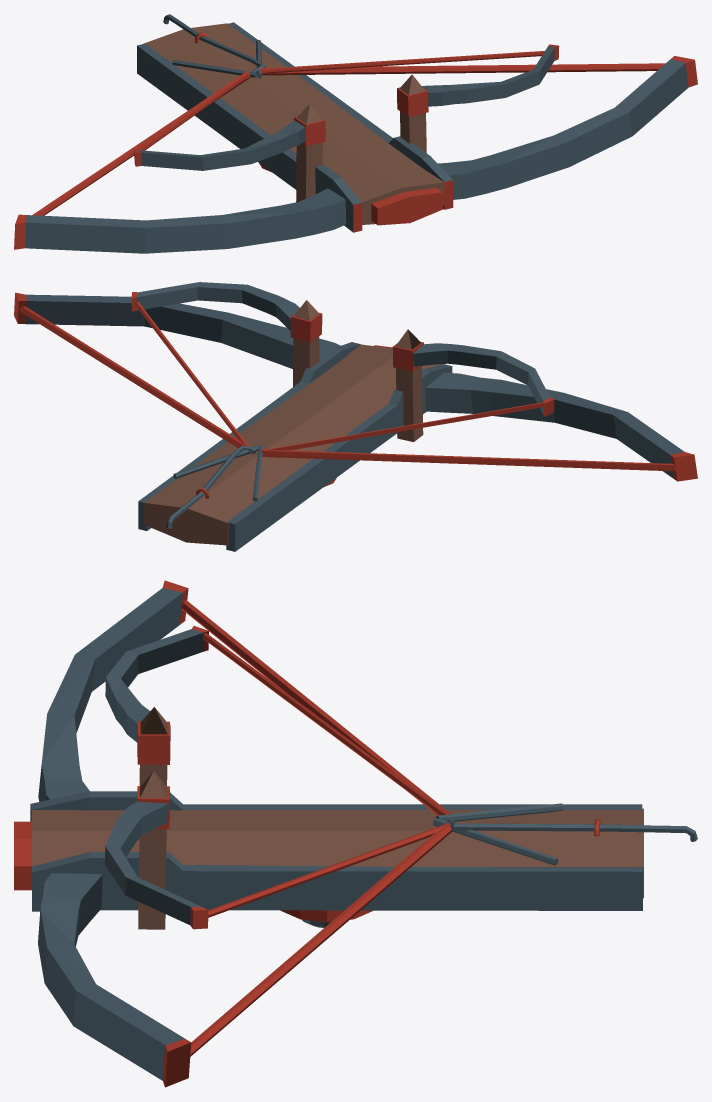
The model's file is Trampa Fletxes.fbx.
3 renders of one model, top to bottom at view 1: azimuth 30°, elevation 25°; view 2: azimuth 150°, elevation 25°; view 3: azimuth 270°, elevation 25°, orthographic. The views are drawn at different scales.
Parts seen in each view (by area): view 1: group1003815585, group1092088975, group1567748452, group692253975, trampa, group1821411647, group1246557501, group1064157578, group1969344344; view 2: group1003815585, group1092088975, group1567748452, group692253975, trampa, group1821411647, group1064157578, group1545697139; view 3: group1092088975, group1821411647, group1003815585, group1567748452, group692253975, trampa, group1064157578, group1246557501, group1969344344, group1545697139.
Boxes of the visible parts, bbox=[...] form: group1003815585: bbox=[14, 56, 697, 253]; group1092088975: bbox=[143, 23, 444, 224]; group1567748452: bbox=[134, 44, 559, 202]; group692253975: bbox=[32, 51, 665, 215]; trampa: bbox=[137, 43, 362, 232]; group1821411647: bbox=[228, 22, 453, 209]; group1246557501: bbox=[371, 188, 442, 225]; group1064157578: bbox=[163, 14, 265, 72]; group1969344344: bbox=[172, 60, 257, 77]; group1003815585: bbox=[14, 292, 697, 481]; group1092088975: bbox=[144, 344, 442, 545]; group1567748452: bbox=[131, 282, 554, 441]; group692253975: bbox=[19, 302, 675, 471]; trampa: bbox=[226, 364, 452, 551]; group1821411647: bbox=[138, 342, 360, 530]; group1064157578: bbox=[166, 445, 256, 528]; group1545697139: bbox=[173, 444, 260, 478]; group1092088975: bbox=[32, 808, 643, 898]; group1821411647: bbox=[32, 852, 642, 911]; group1003815585: bbox=[38, 580, 191, 1087]; group1567748452: bbox=[105, 626, 208, 929]; group692253975: bbox=[181, 600, 452, 1056]; trampa: bbox=[30, 791, 642, 821]; group1064157578: bbox=[446, 818, 697, 841]; group1246557501: bbox=[14, 821, 31, 890]; group1969344344: bbox=[436, 803, 563, 821]; group1545697139: bbox=[433, 818, 558, 865].
Size of the model in its own units: 310 by 58.76 by 190.
